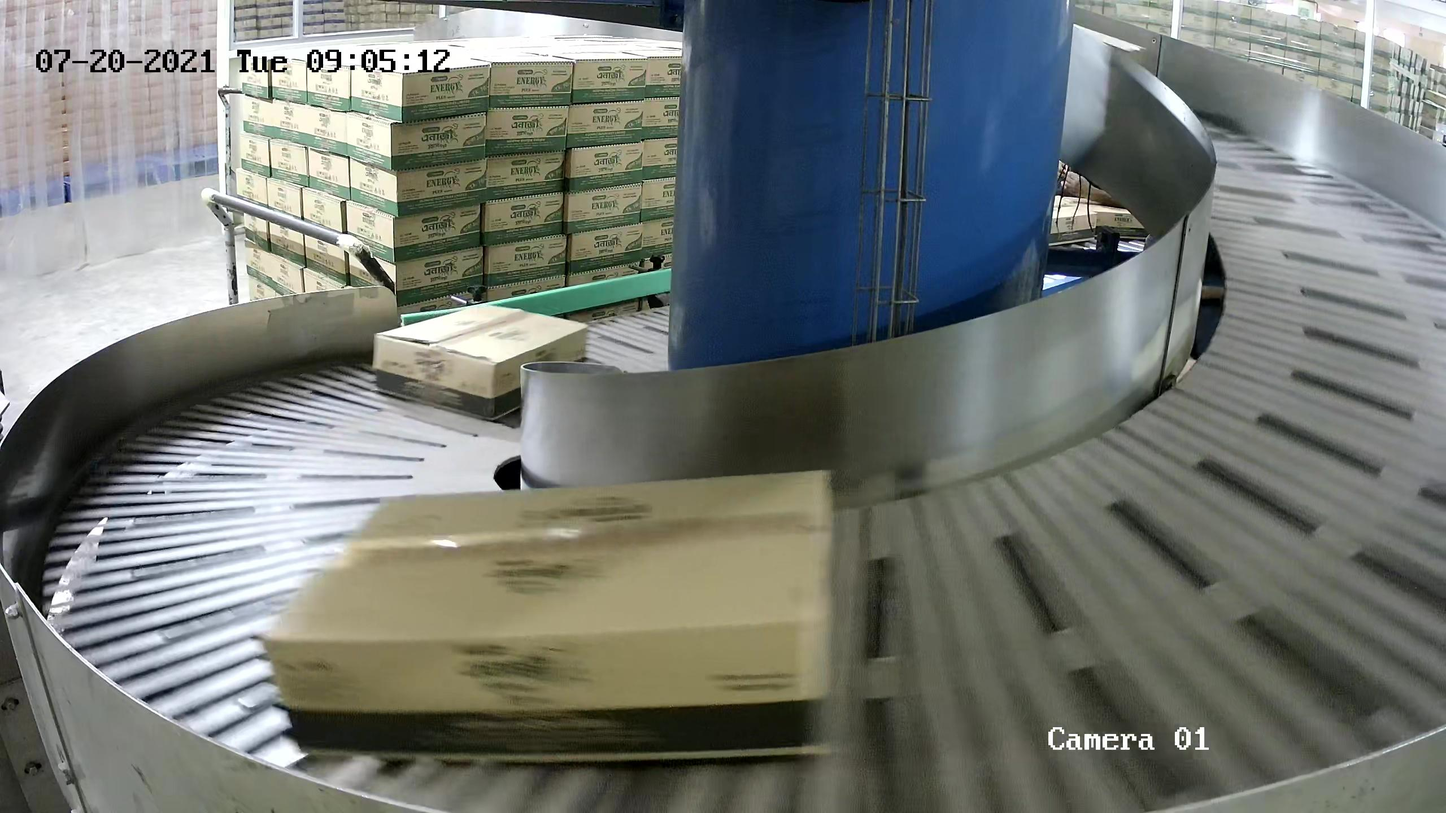Box: (256, 461, 849, 761), (371, 301, 589, 422)
